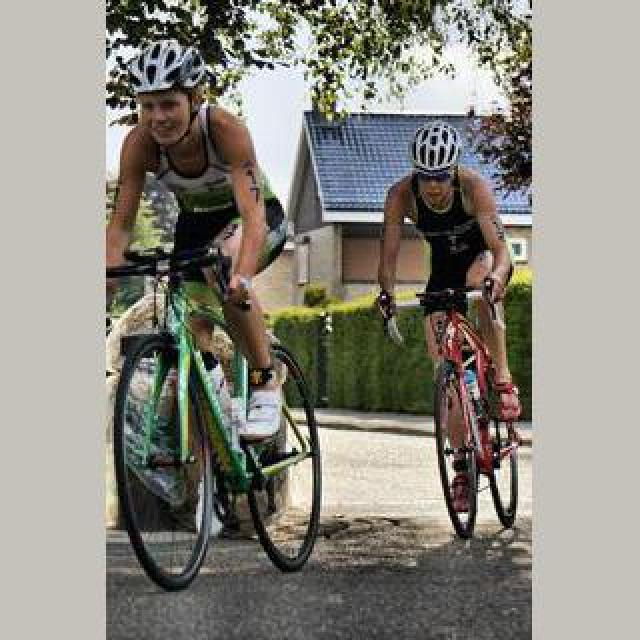MC-Bike: (100, 30, 294, 580), (376, 128, 524, 540)
Person: (107, 226, 333, 590), (376, 279, 524, 539)
